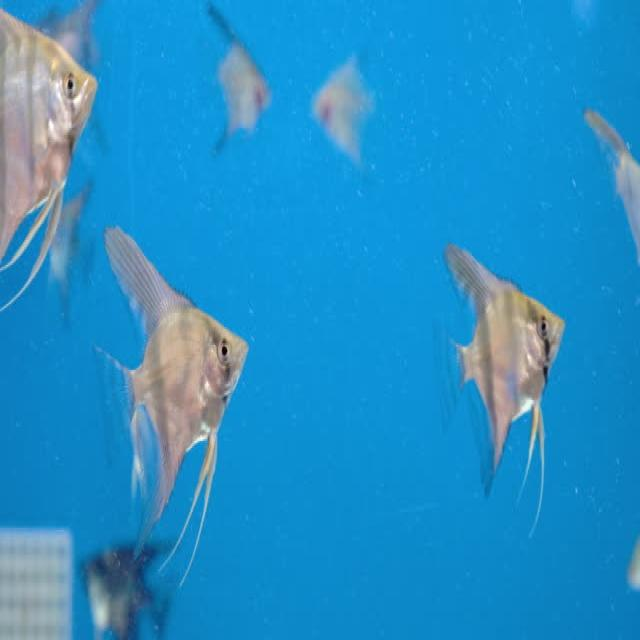AngelFish: (105, 210, 248, 580), (443, 244, 565, 526), (1, 10, 93, 296), (206, 9, 272, 157), (320, 47, 380, 184)
